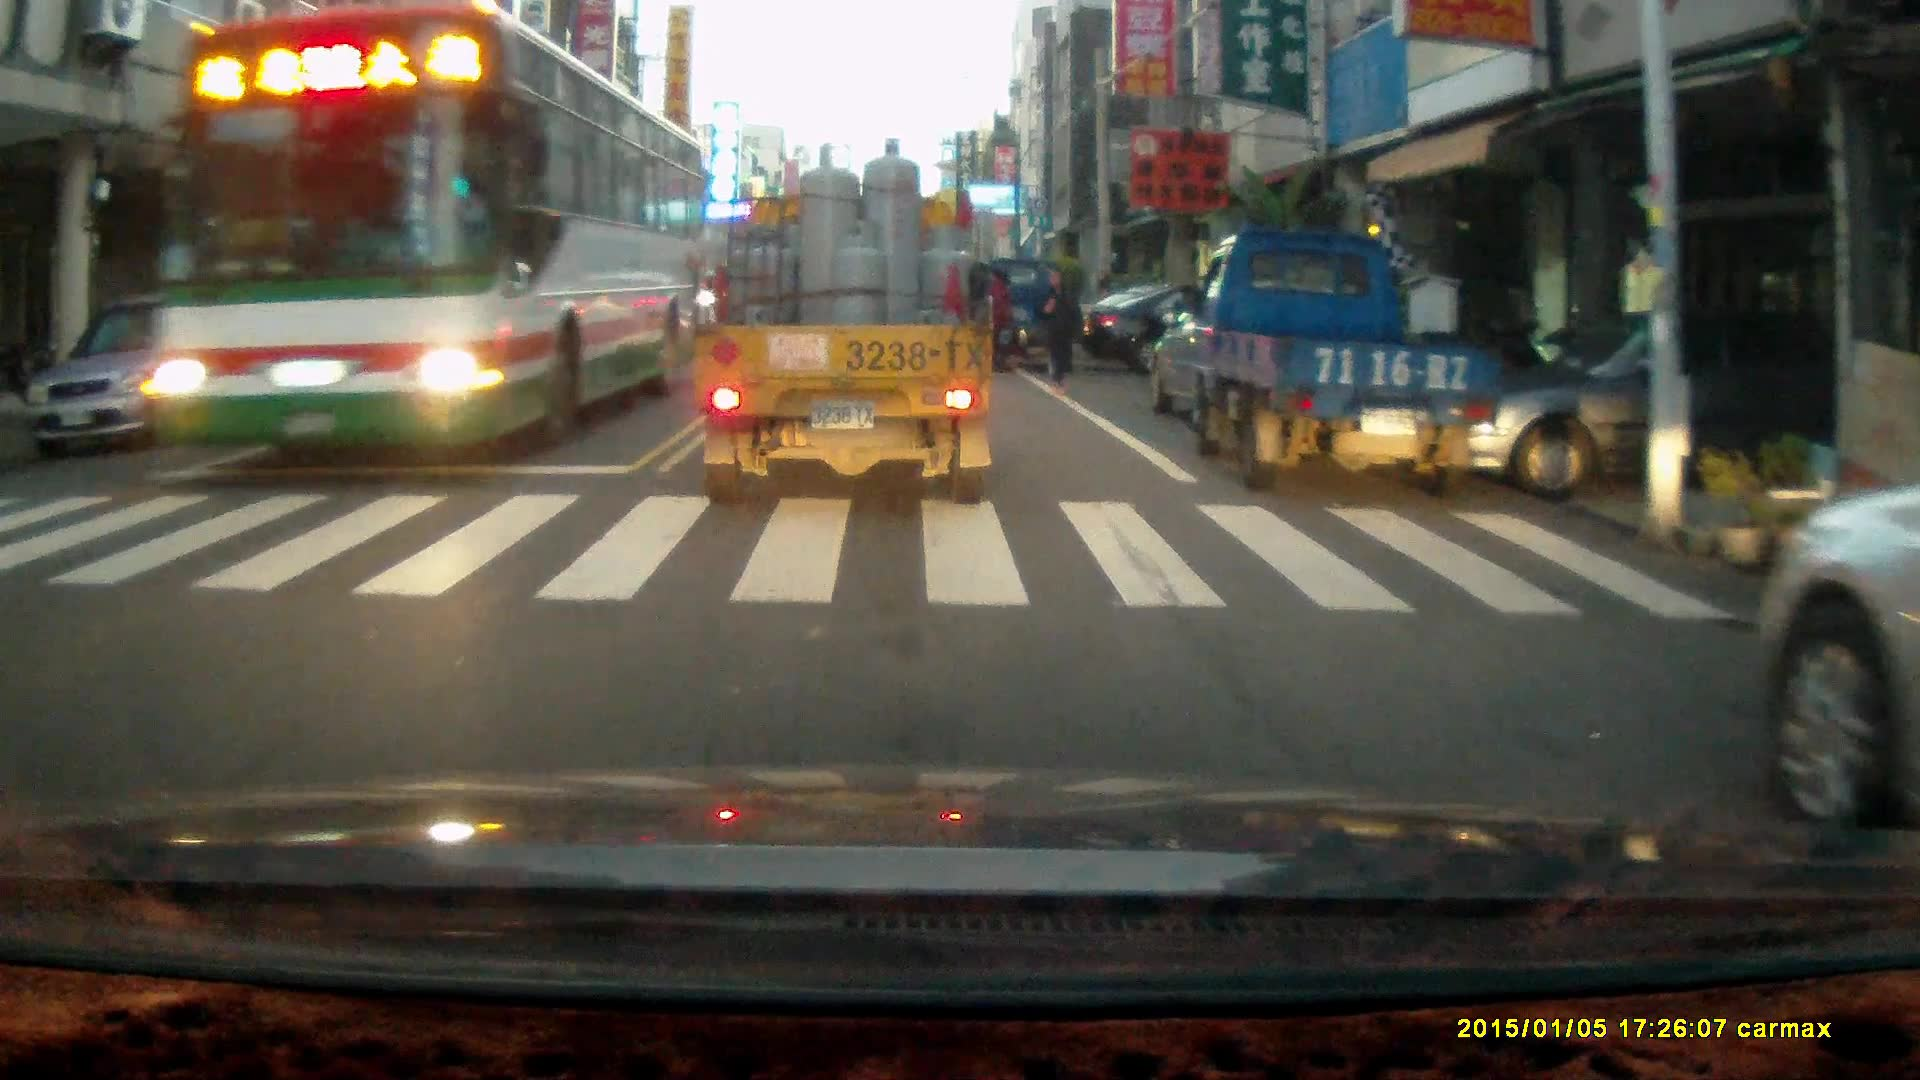pedestrian: (1033, 262, 1087, 386), (981, 262, 1015, 377)
vehicle: (138, 21, 704, 465), (690, 136, 1000, 511), (1172, 225, 1506, 493), (1755, 453, 1920, 867), (1465, 346, 1849, 492), (24, 290, 274, 461), (978, 260, 1088, 378)
